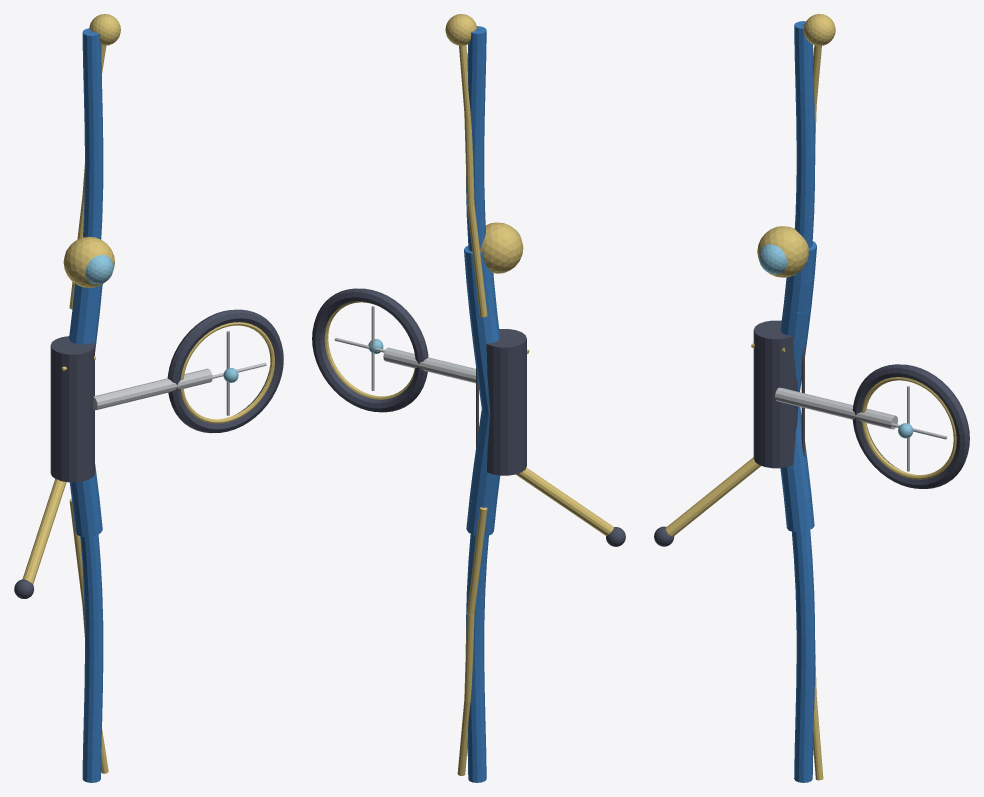
The model's file is arco_aguia_dourada.glb.
The picture shows the model from 3 angles, left to right: view 1: azimuth 30°, elevation 25°; view 2: azimuth 150°, elevation 25°; view 3: azimuth 330°, elevation 25°; orthographic projection.
Parts seen in each view (by area): view 1: empunhadura, anel_mira_escuro, braco_da_mira, medalha, estabilizador, anel_mira_metalico, lamina_15, lamina_8, lamina_14, lamina_9, ponteira, lamina_23 (+14 smaller); view 2: empunhadura, anel_mira_escuro, medalha, estabilizador, braco_da_mira, friso_1_0, friso_-1_0, lamina_9, lamina_14, ponteira, friso_1_1, anel_mira_metalico (+9 smaller); view 3: empunhadura, anel_mira_escuro, braco_da_mira, medalha, estabilizador, anel_mira_metalico, lamina_8, lamina_9, lamina_15, ponteira, lamina_14, pedra_casa (+15 smaller).
Part boxes in pixels (x1,y1,x2,y2): empunhadura: (50, 336, 94, 482); anel_mira_escuro: (167, 309, 283, 433); braco_da_mira: (93, 368, 212, 410); medalha: (63, 236, 114, 287); estabilizador: (22, 479, 66, 584); anel_mira_metalico: (180, 322, 274, 423); lamina_15: (72, 283, 102, 318); lamina_8: (72, 499, 102, 537); lamina_14: (69, 312, 99, 347); lamina_9: (69, 469, 99, 506); ponteira: (89, 14, 120, 45); lamina_23: (82, 28, 101, 66); empunhadura: (486, 329, 526, 475); anel_mira_escuro: (312, 288, 428, 412); medalha: (480, 222, 523, 273); estabilizador: (516, 467, 613, 535); braco_da_mira: (383, 347, 475, 383); friso_1_0: (467, 204, 487, 317); friso_-1_0: (467, 507, 487, 615); lamina_9: (469, 468, 500, 506); lamina_14: (469, 311, 500, 349); ponteira: (445, 14, 476, 45); friso_1_1: (464, 113, 474, 205); anel_mira_metalico: (324, 301, 415, 399); empunhadura: (753, 320, 797, 468); anel_mira_escuro: (852, 364, 969, 488); braco_da_mira: (775, 387, 897, 429); medalha: (757, 226, 808, 277); estabilizador: (665, 457, 761, 536); anel_mira_metalico: (861, 377, 956, 479); lamina_8: (783, 494, 814, 532); lamina_9: (780, 461, 811, 499); lamina_15: (783, 277, 814, 312); ponteira: (804, 14, 835, 45); lamina_14: (780, 305, 811, 343); pedra_casa: (758, 244, 787, 274).
Size of the model in its own units: 1.23 by 3.09 by 0.366.
